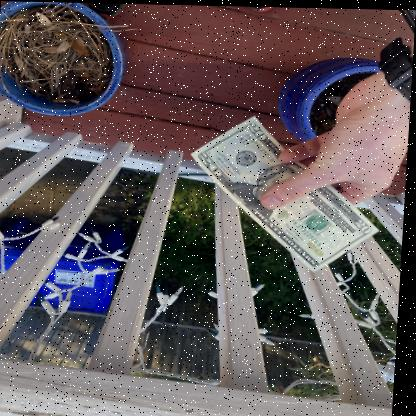twenty-front: (188, 114, 379, 271)
